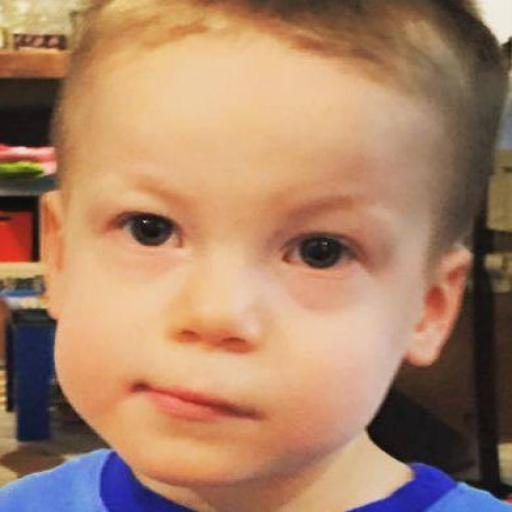Autism: (25, 0, 512, 512)
